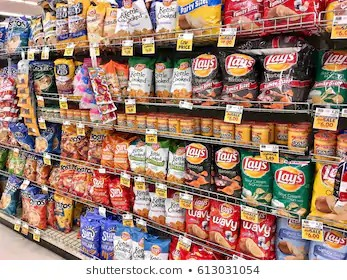lays-med: (261, 50, 304, 109), (221, 55, 262, 106), (270, 165, 313, 209), (192, 51, 221, 107), (238, 155, 269, 207), (214, 138, 240, 200), (188, 143, 210, 191)
